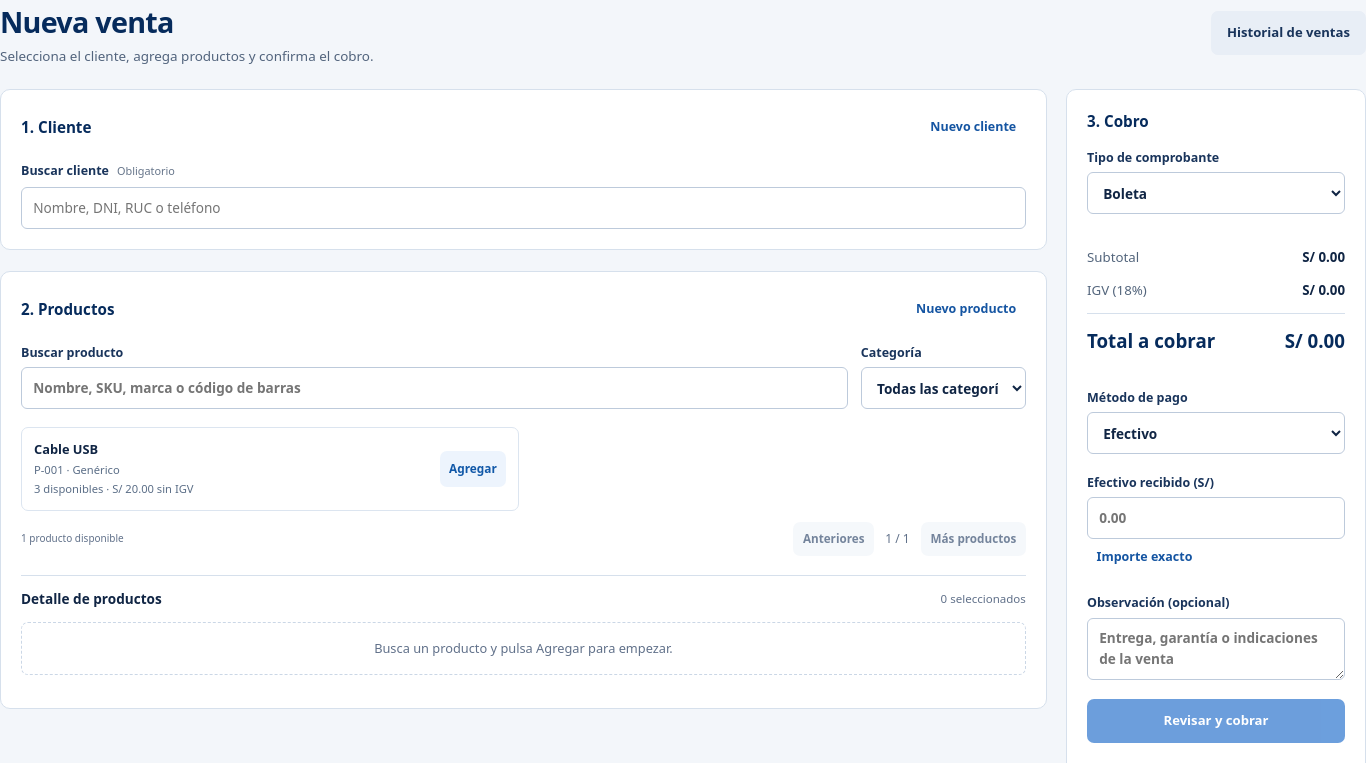
Scenario: SalePage › INC-10: con el efectivo vacío muestra el mensaje en la página y no la burbuja nativa del navegador
Type "Cliente de Prueba" into the dropdown labelled "Buscar cliente" at (523, 208), box top-left (21, 187), bottom-right (1026, 229)
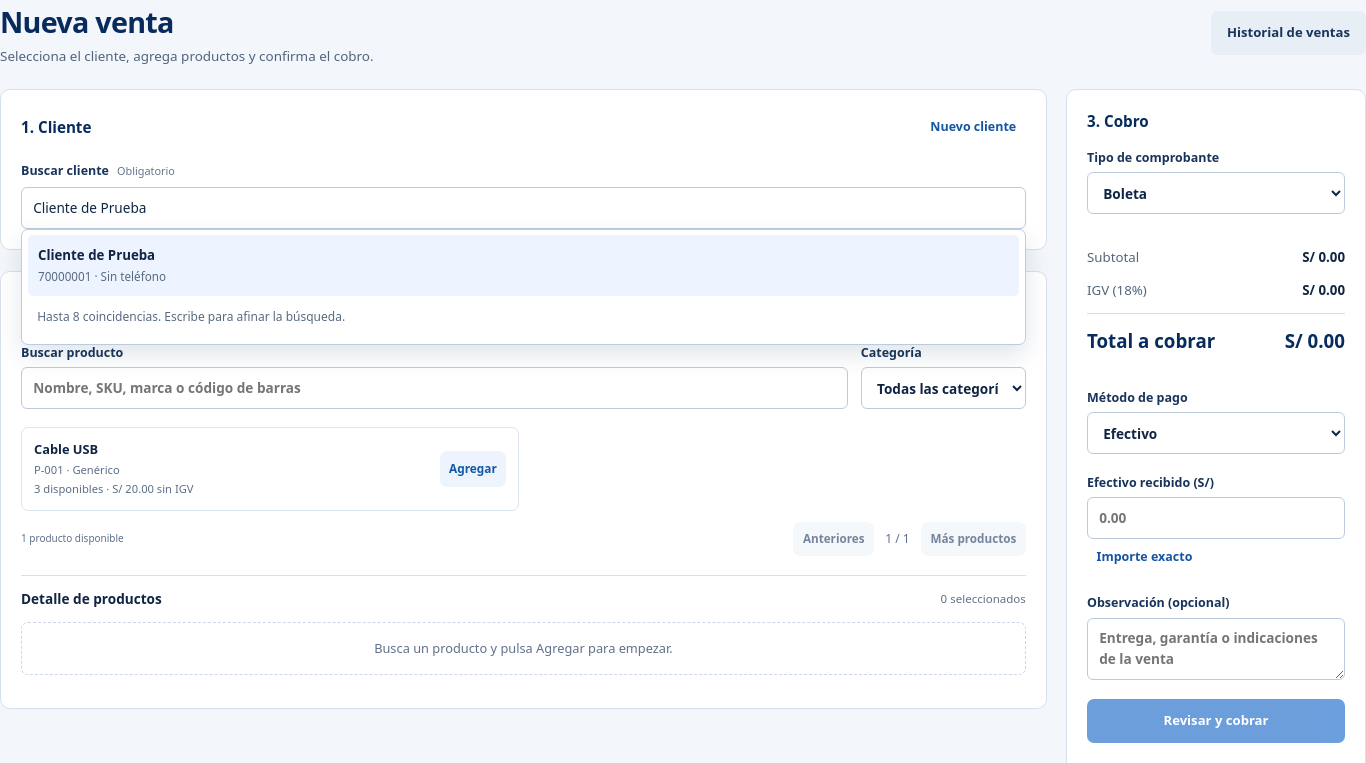
Click the option "Cliente de Prueba 70000001 · Sin teléfono" at (97, 255), box top-left (28, 236), bottom-right (1019, 296)
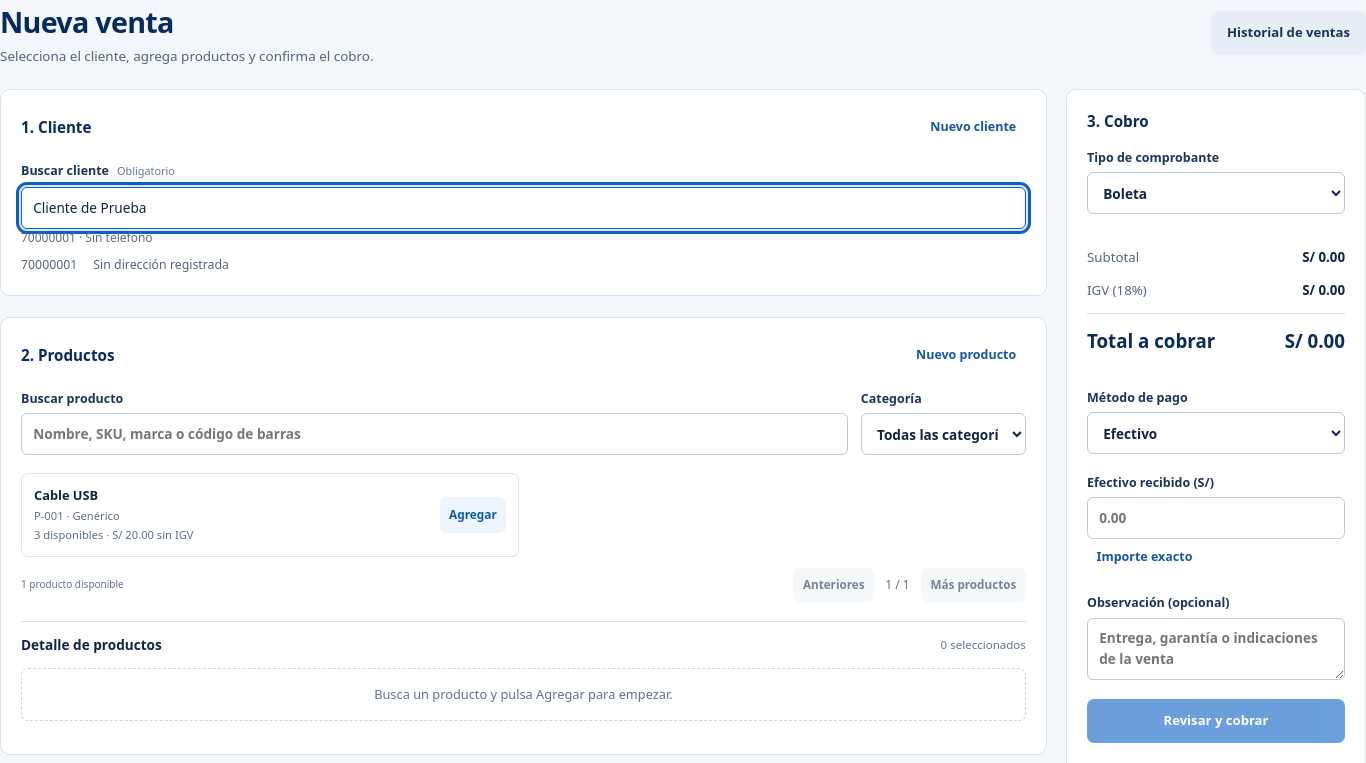
Click the button with aria-label "Agregar Cable USB" at (473, 515), box top-left (440, 497), bottom-right (506, 533)
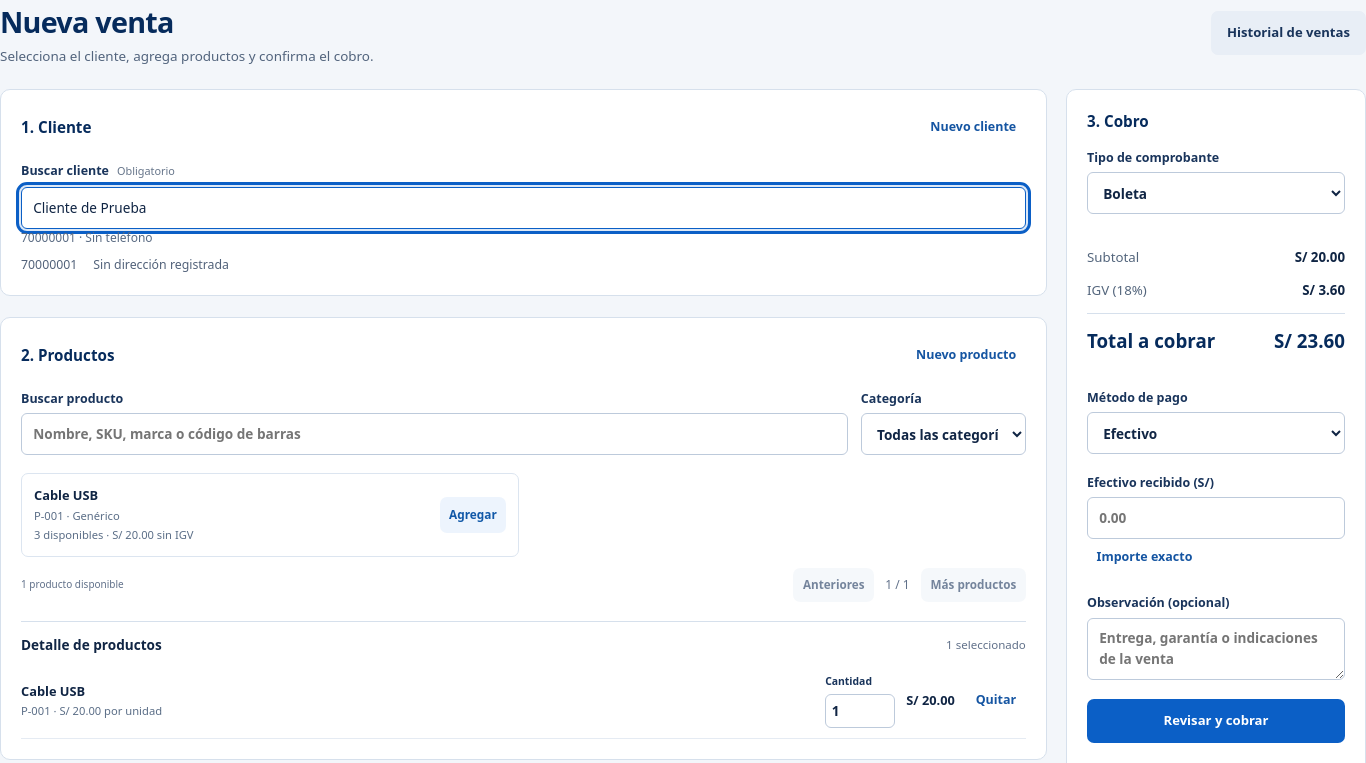
Click the button "Revisar y cobrar" at (1216, 721), box top-left (1087, 699), bottom-right (1345, 743)
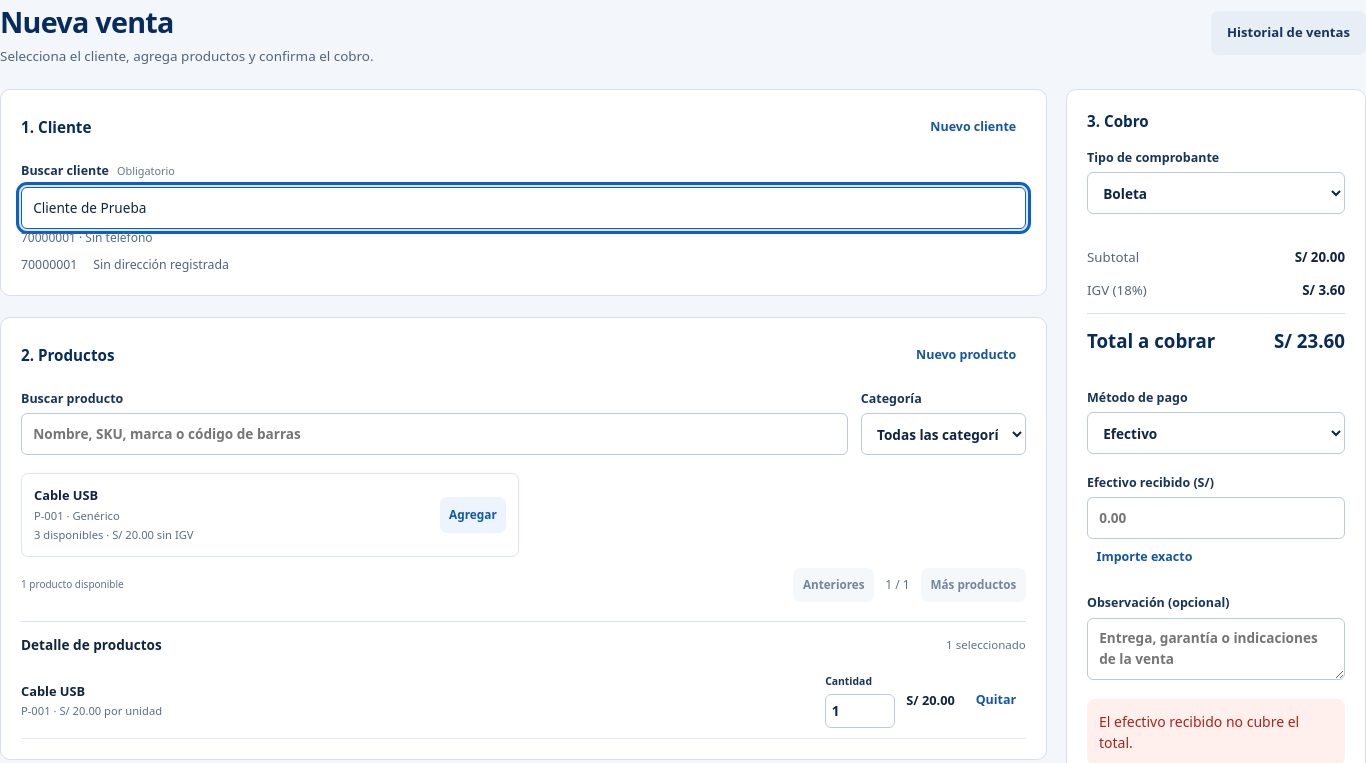
Now the message reads "El efectivo recibido no cubre el total.", box top-left (1099, 712), bottom-right (1299, 752)
